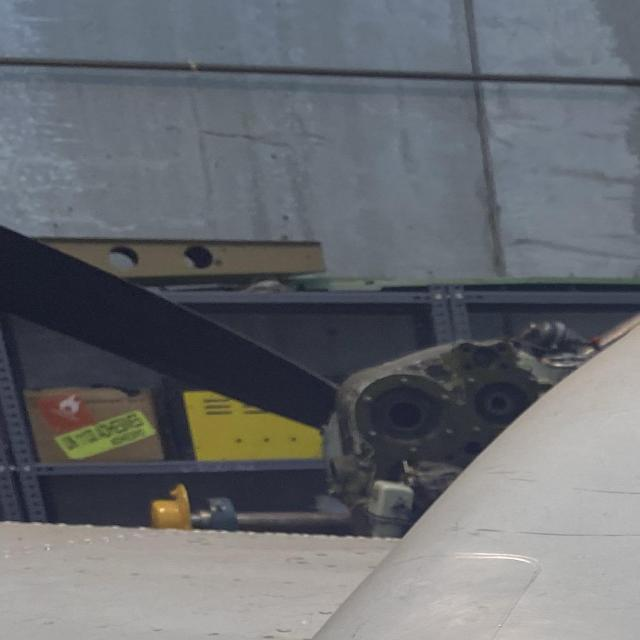Scratch: (464, 524, 640, 540), (564, 474, 640, 507)
